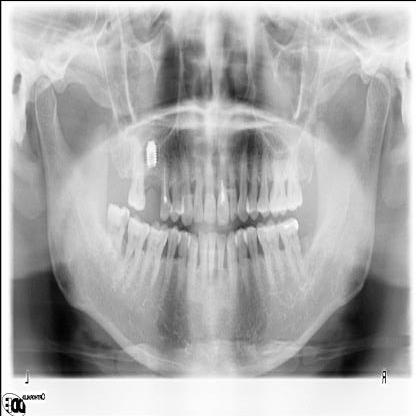Bicon: (142, 132, 158, 168)
